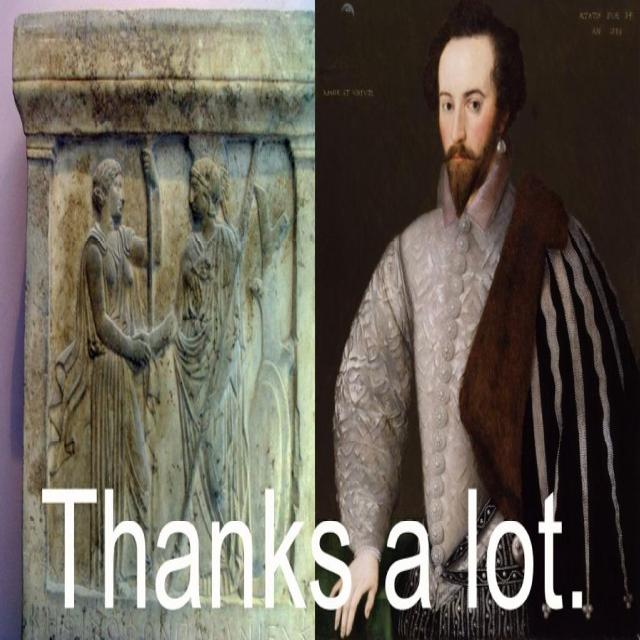nomask: (439, 35, 499, 196)
